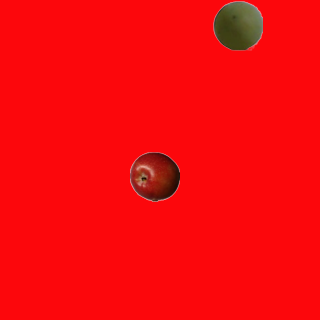Apple Braeburn: (129, 151, 179, 201)
Grape White 4: (212, 0, 262, 50)
